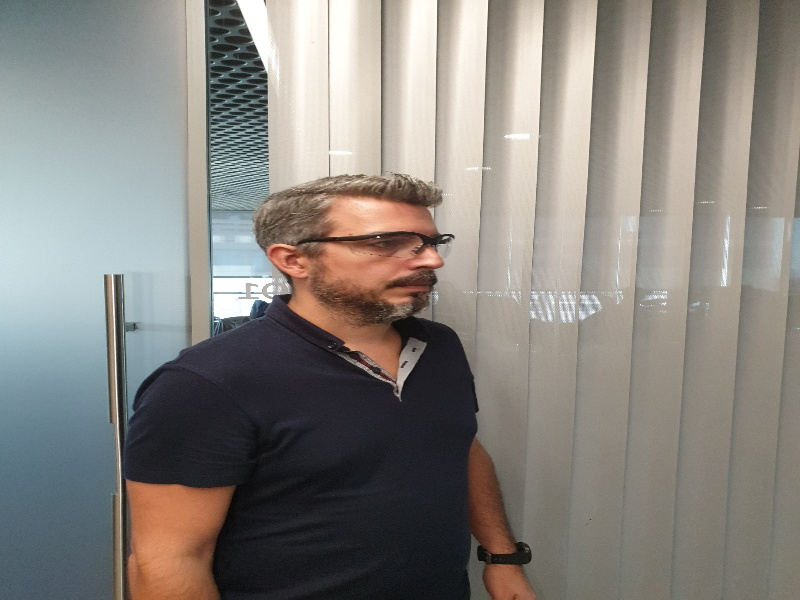Gozluk: (297, 231, 457, 259)
